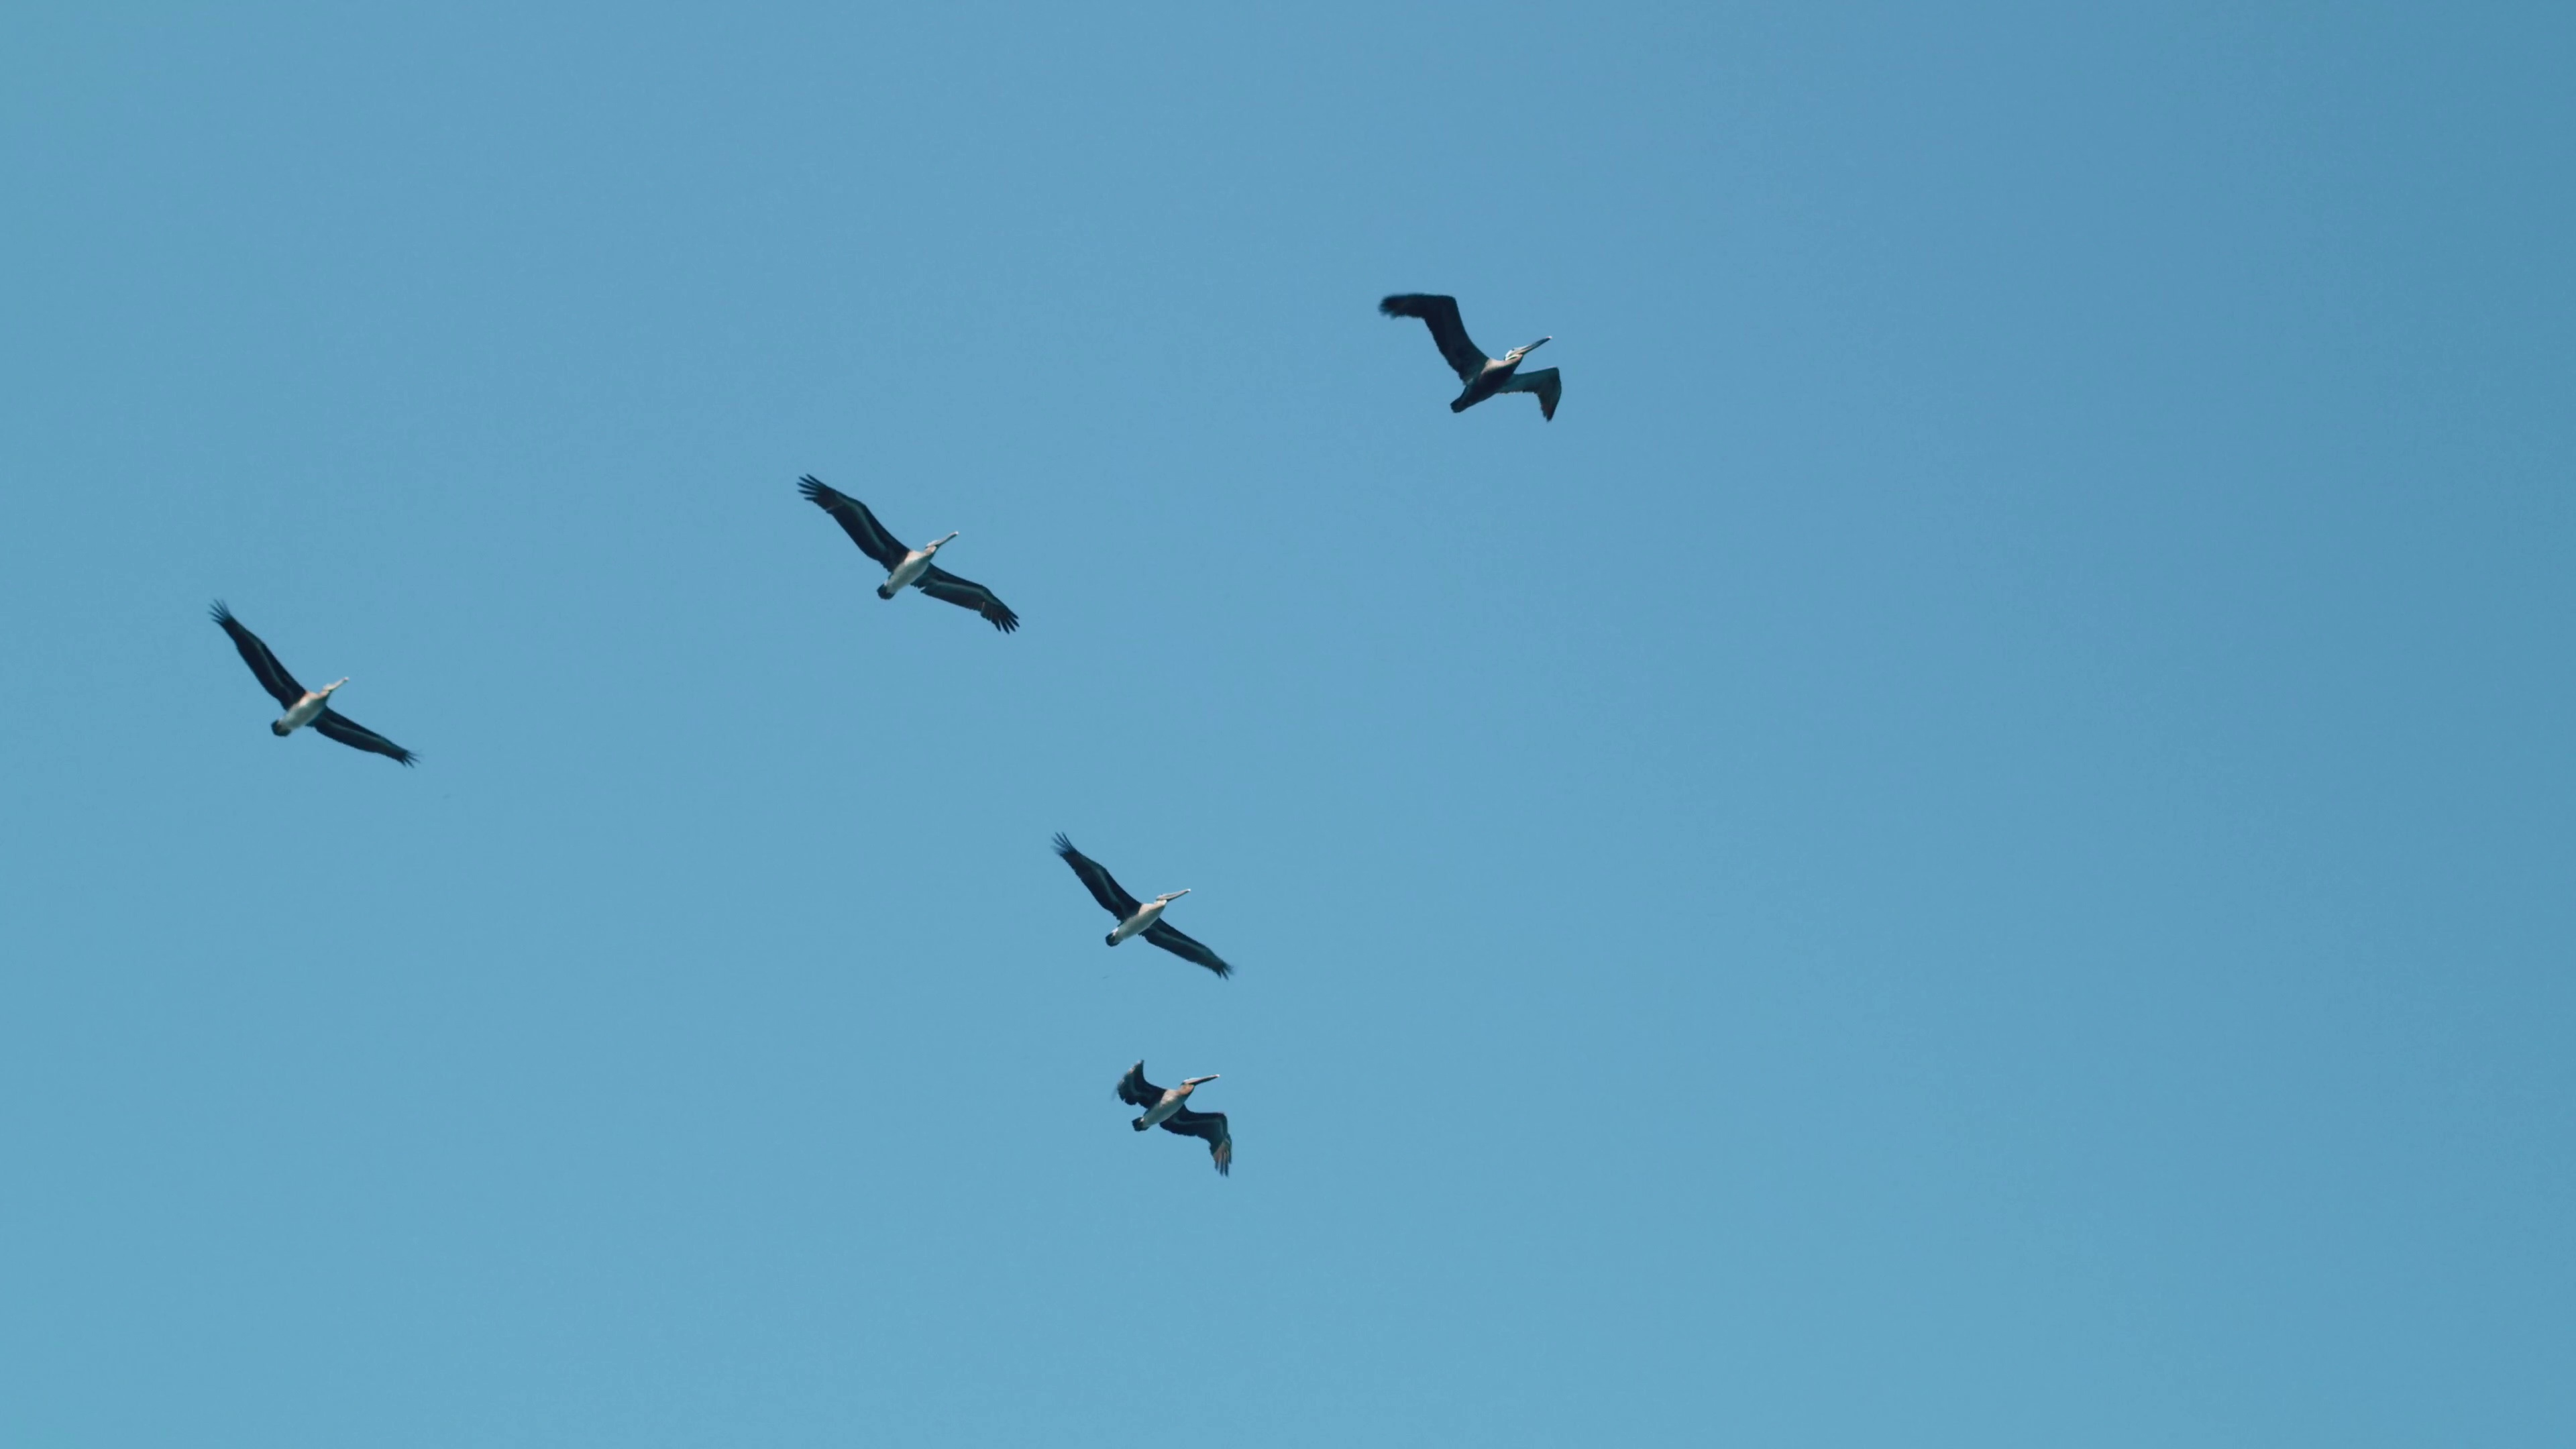bird: (794, 474, 1021, 640), (211, 598, 416, 764), (1054, 832, 1231, 982), (1380, 292, 1566, 419), (1115, 1058, 1233, 1175)
